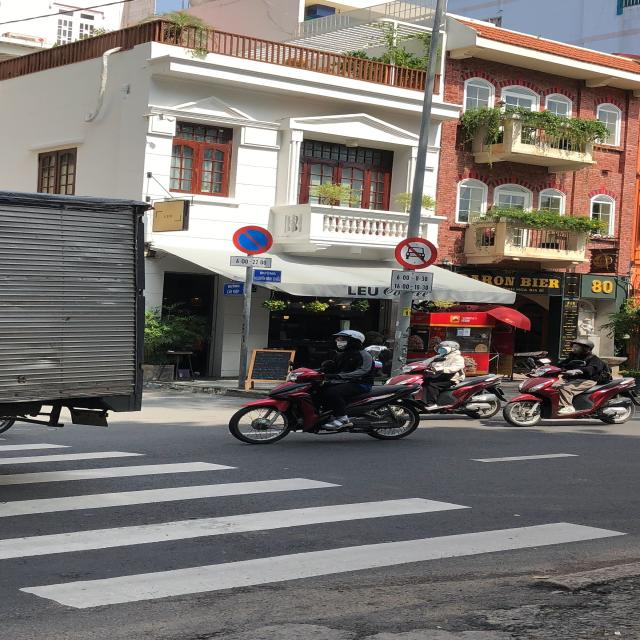Bien bao cam do xe: (228, 223, 281, 258)
Bien bao cam xe oto: (393, 232, 449, 269)
